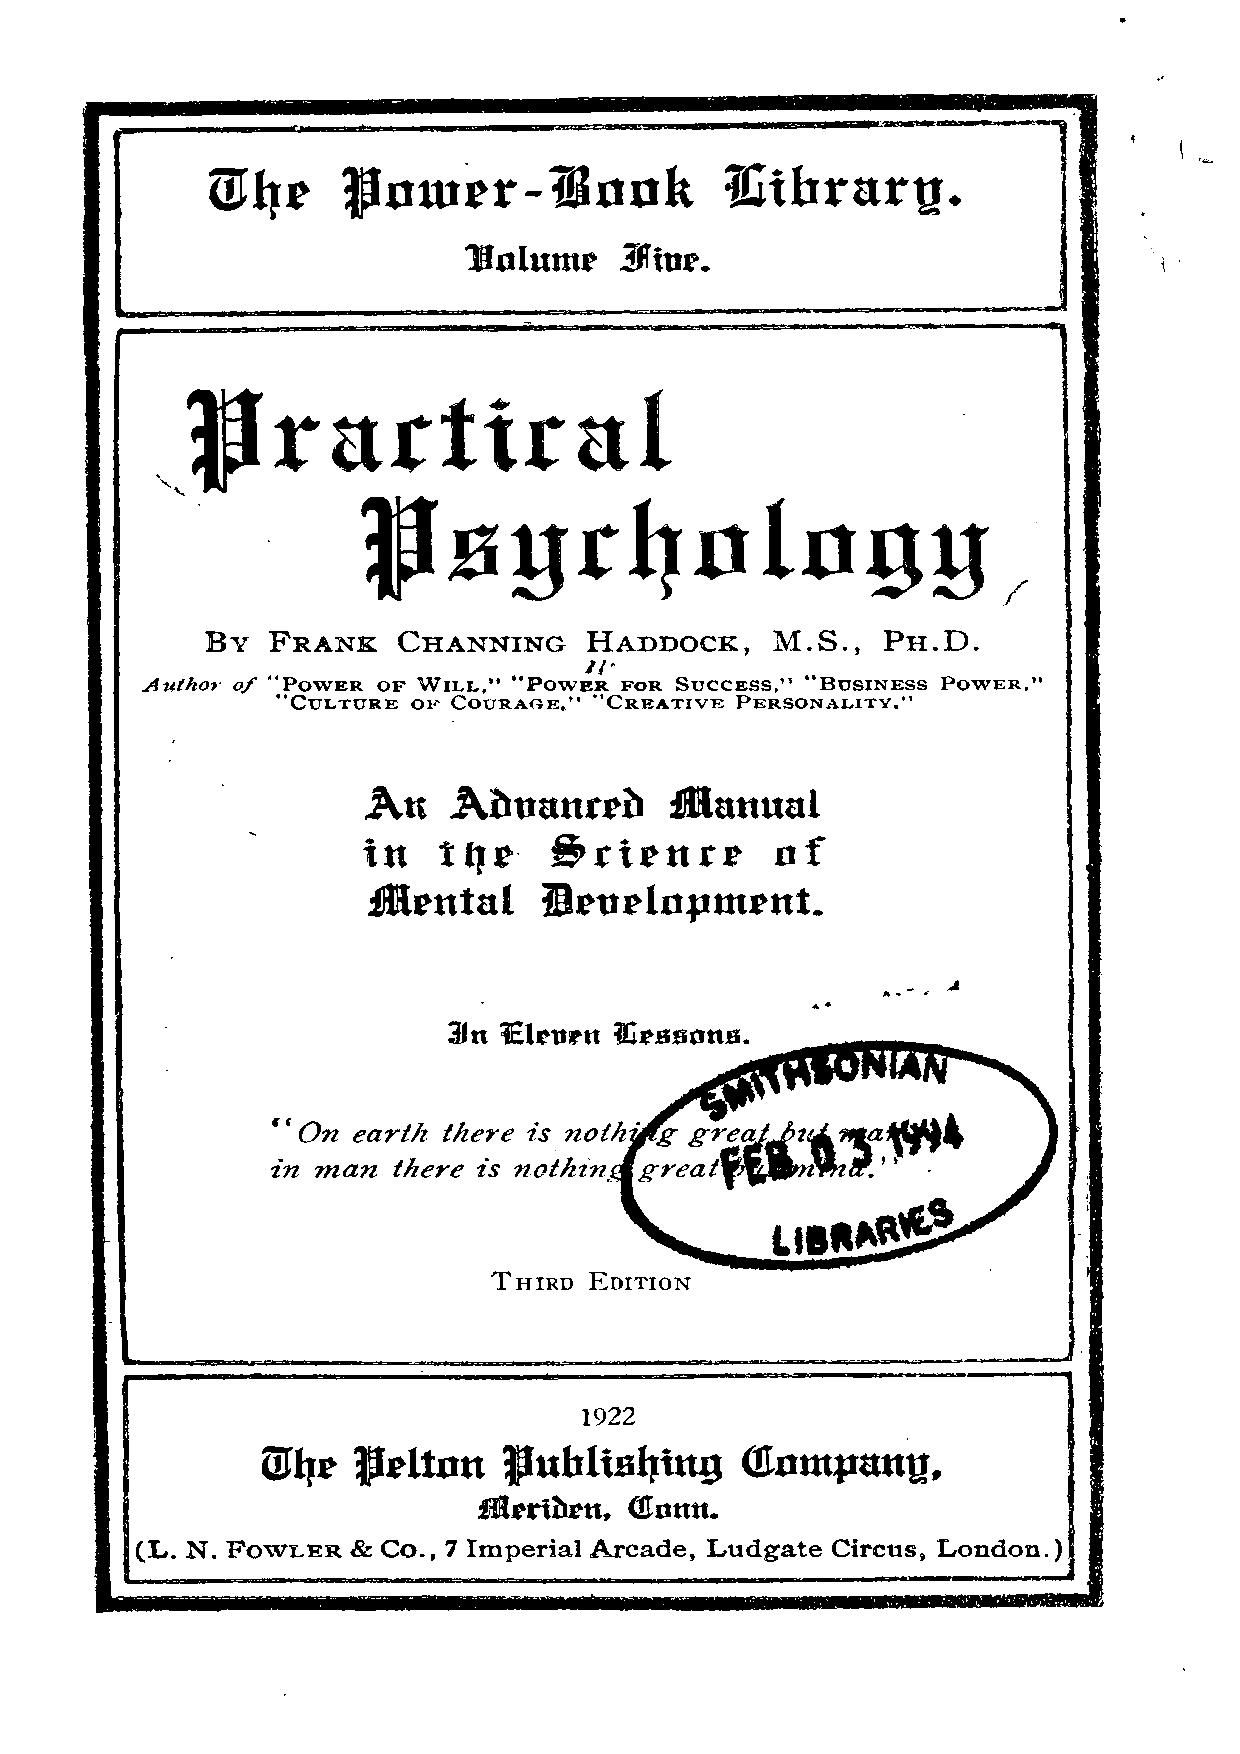author: (201, 625, 984, 658)
title: (184, 381, 986, 603)
